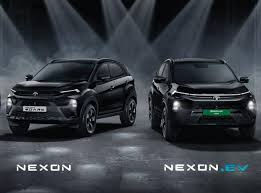Tata Nexon: (6, 57, 138, 139), (146, 54, 259, 143)
